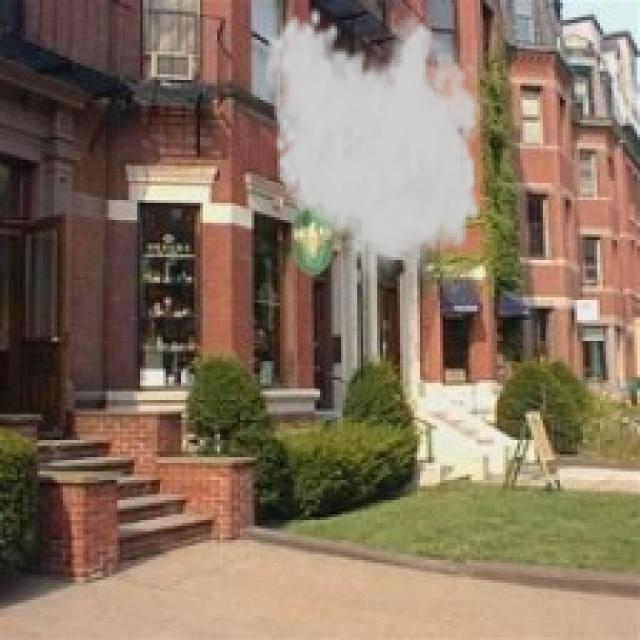Smoke: (262, 5, 494, 288)
